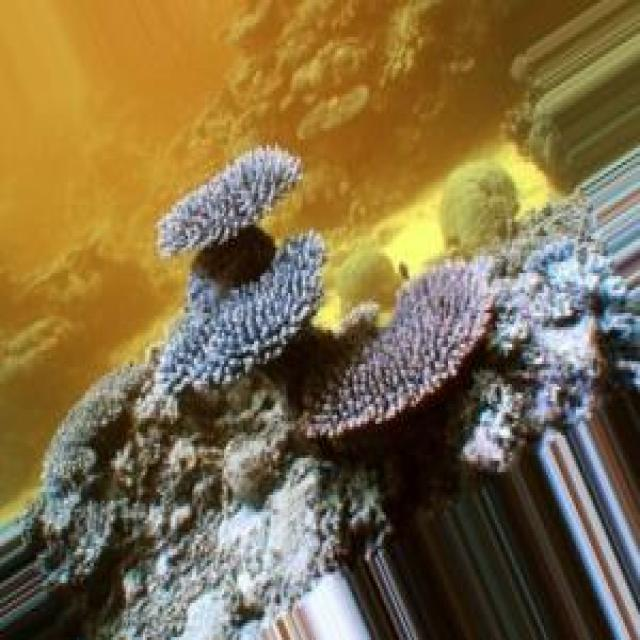Bleached: (22, 260, 494, 640), (332, 197, 639, 473), (300, 260, 496, 445), (159, 231, 327, 399), (157, 146, 304, 260)
